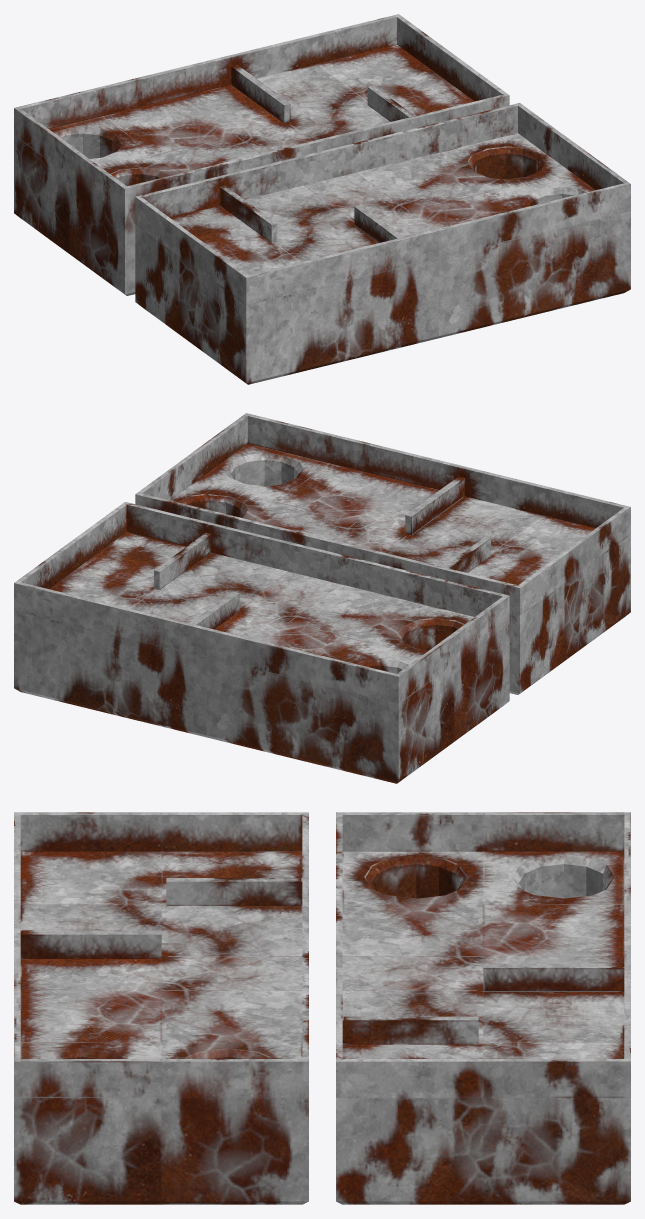
The model's file is Stage2.fbx.
3 views of the same model, one above another, from view 1: azimuth 30°, elevation 25°; view 2: azimuth 150°, elevation 25°; view 3: azimuth 270°, elevation 25° (orthographic). The views are drawn at different scales.
Visible parts, largest first — view 1: Temp2.001, Temp2.002; view 2: Temp2.002, Temp2.001; view 3: Temp2.001, Temp2.002.
Boxes of the visible parts, x1,y1,x2,y2 form: Temp2.001: [135, 103, 630, 384]; Temp2.002: [14, 14, 509, 295]; Temp2.002: [14, 502, 509, 783]; Temp2.001: [135, 413, 630, 694]; Temp2.001: [14, 812, 308, 1204]; Temp2.002: [336, 812, 630, 1204].
Size of the model in its own units: 440 by 120 by 460.
